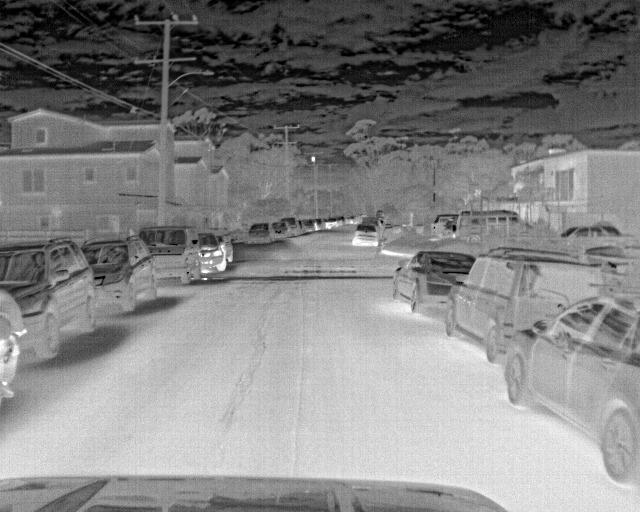car: (502, 291, 637, 489), (442, 242, 601, 356), (2, 237, 106, 364), (77, 237, 161, 307), (394, 249, 479, 315), (137, 225, 204, 283), (453, 208, 522, 247), (556, 222, 627, 251), (198, 233, 229, 275), (352, 222, 380, 248), (249, 222, 278, 245), (430, 213, 453, 239), (281, 216, 299, 237), (272, 222, 292, 239), (302, 217, 316, 233)
